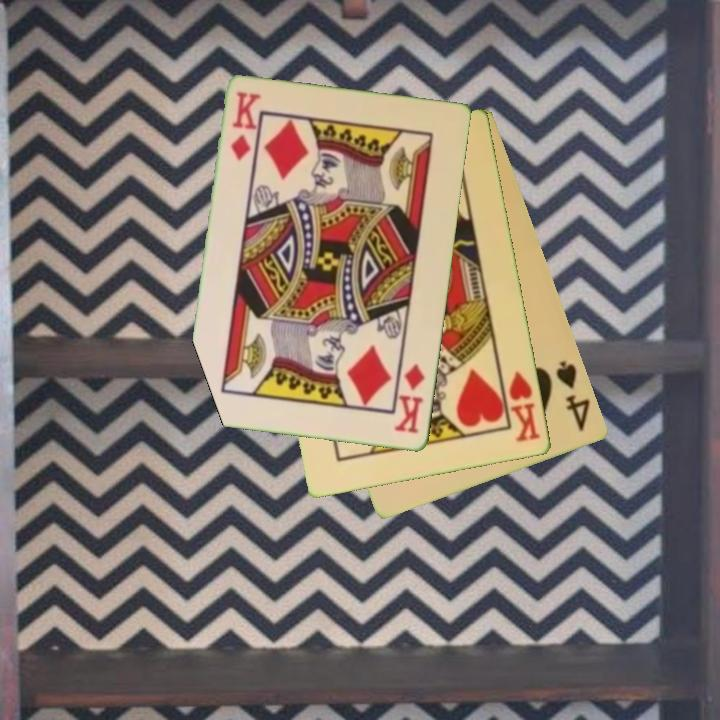4s: (553, 357, 594, 435)
Kd: (391, 360, 429, 437), (228, 88, 263, 164)
Kh: (498, 366, 544, 445)
